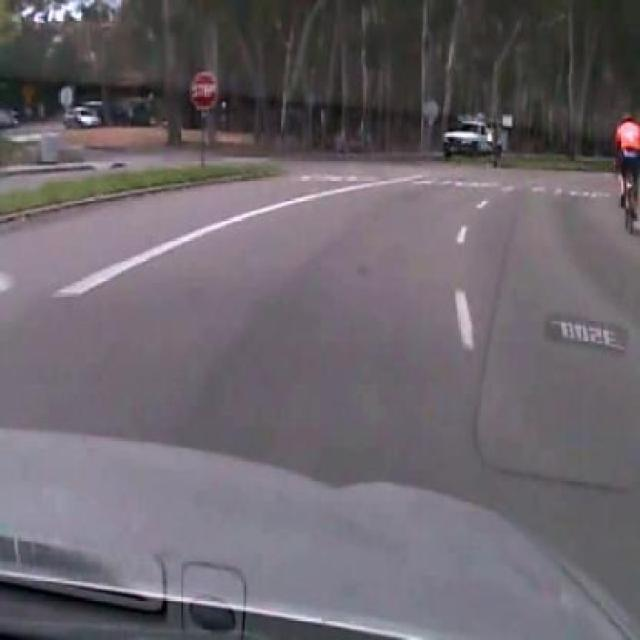stop: (188, 72, 222, 114)
